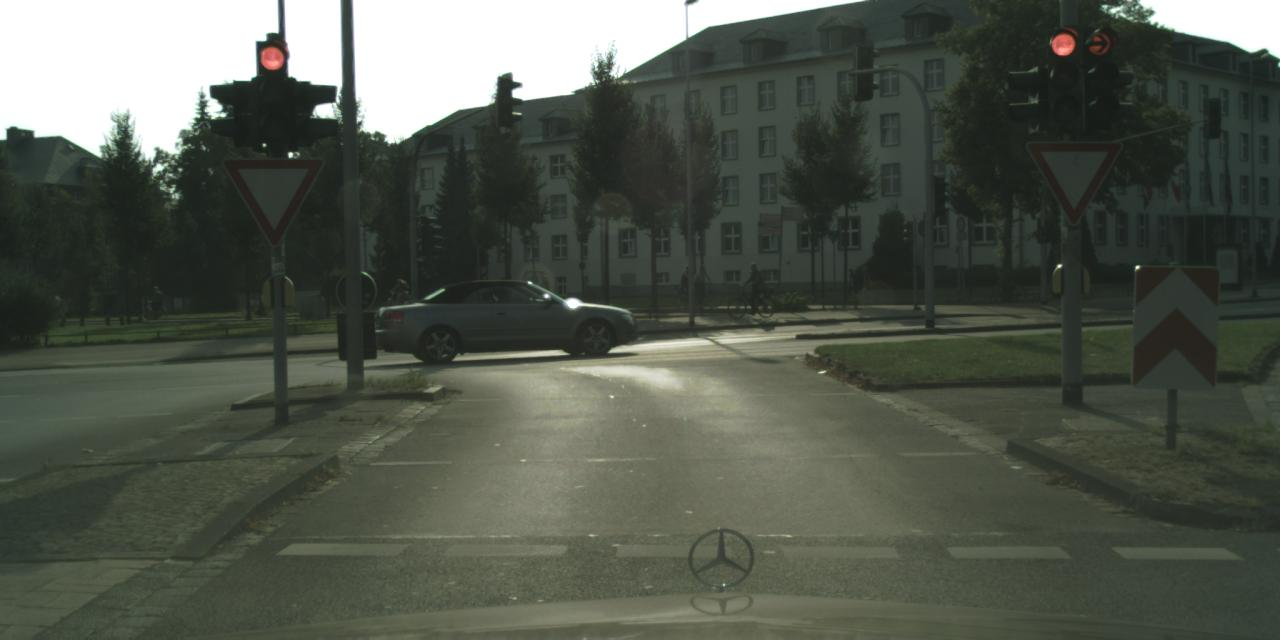ped: (743, 262, 763, 311), (692, 264, 708, 304), (858, 266, 873, 302), (682, 264, 696, 300), (844, 268, 858, 300), (539, 274, 551, 306), (149, 285, 161, 316), (393, 279, 403, 305)
